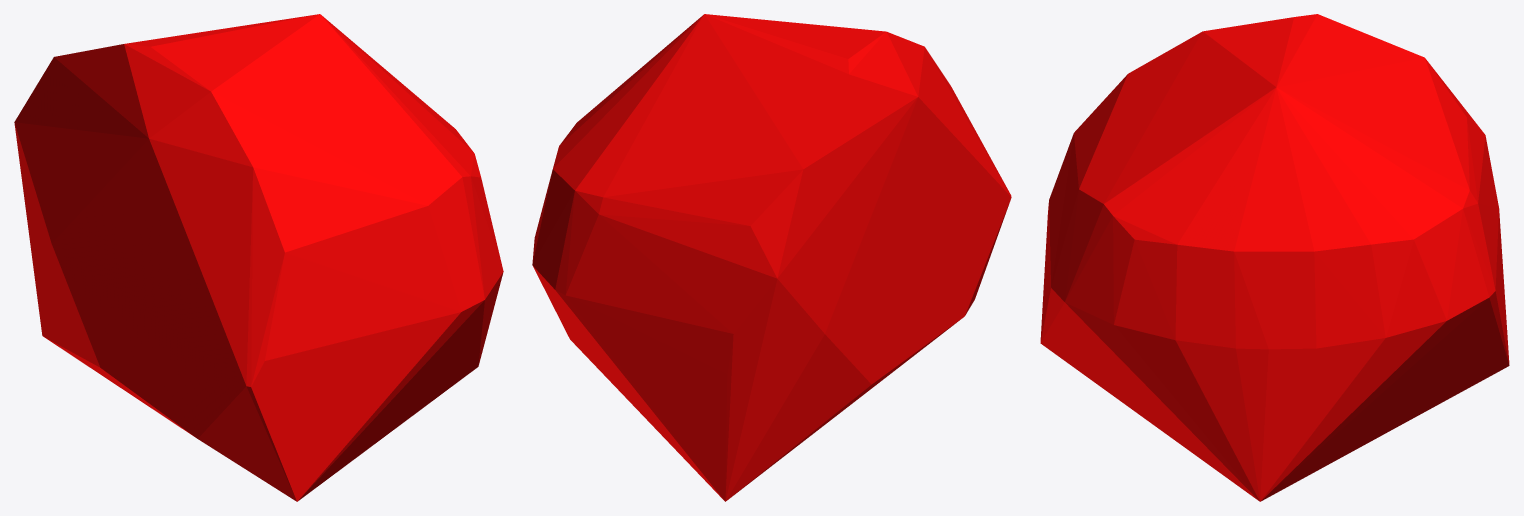
File: tip_006_2_convex_hull_09.obj
The picture shows the model from 3 angles, left to right: view 1: azimuth 30°, elevation 25°; view 2: azimuth 150°, elevation 25°; view 3: azimuth 270°, elevation 25°; orthographic projection. The views are drawn at different scales.
Visible parts, largest first — view 1: tip_006_2_convex_hull_09; view 2: tip_006_2_convex_hull_09; view 3: tip_006_2_convex_hull_09.
Boxes of the visible parts, x1,y1,x2,y2 form: tip_006_2_convex_hull_09: (14, 14, 503, 501); tip_006_2_convex_hull_09: (532, 14, 1011, 501); tip_006_2_convex_hull_09: (1040, 14, 1509, 501).
Bounding box in the file's own units: 0.00123 × 0.0013 × 0.00158.
